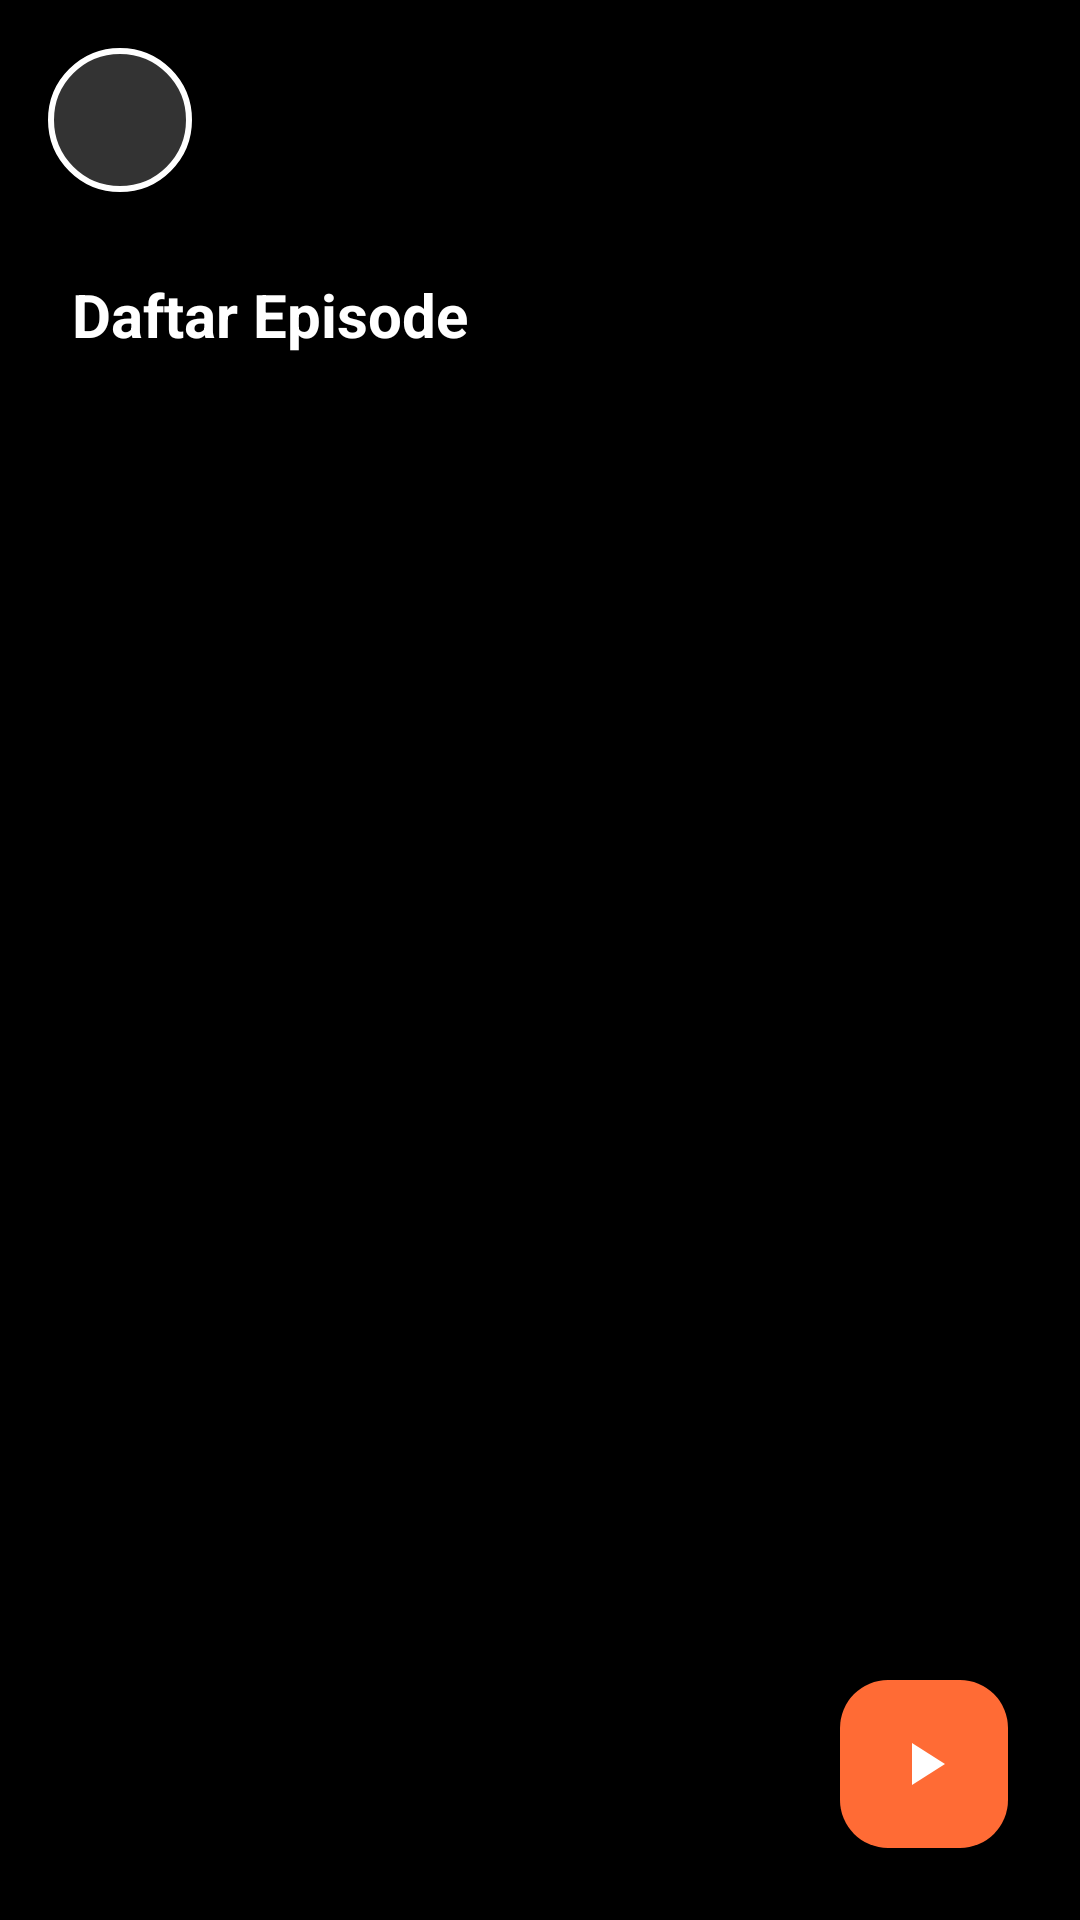

Icon bounding boxes for this 1080 × 1920 phone screenshot, format bbox=(x1, y1, x2, y2):
Putar Semua: bbox=(840, 1680, 1008, 1848)
